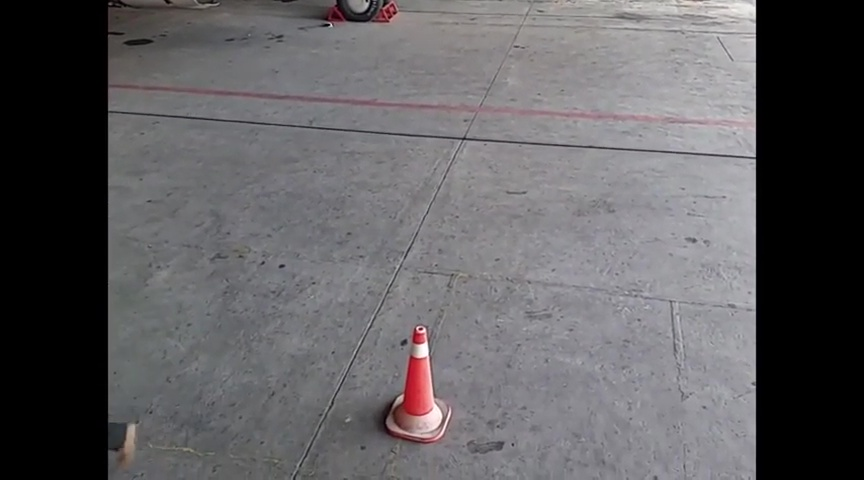safety_cone: (383, 323, 453, 444)
